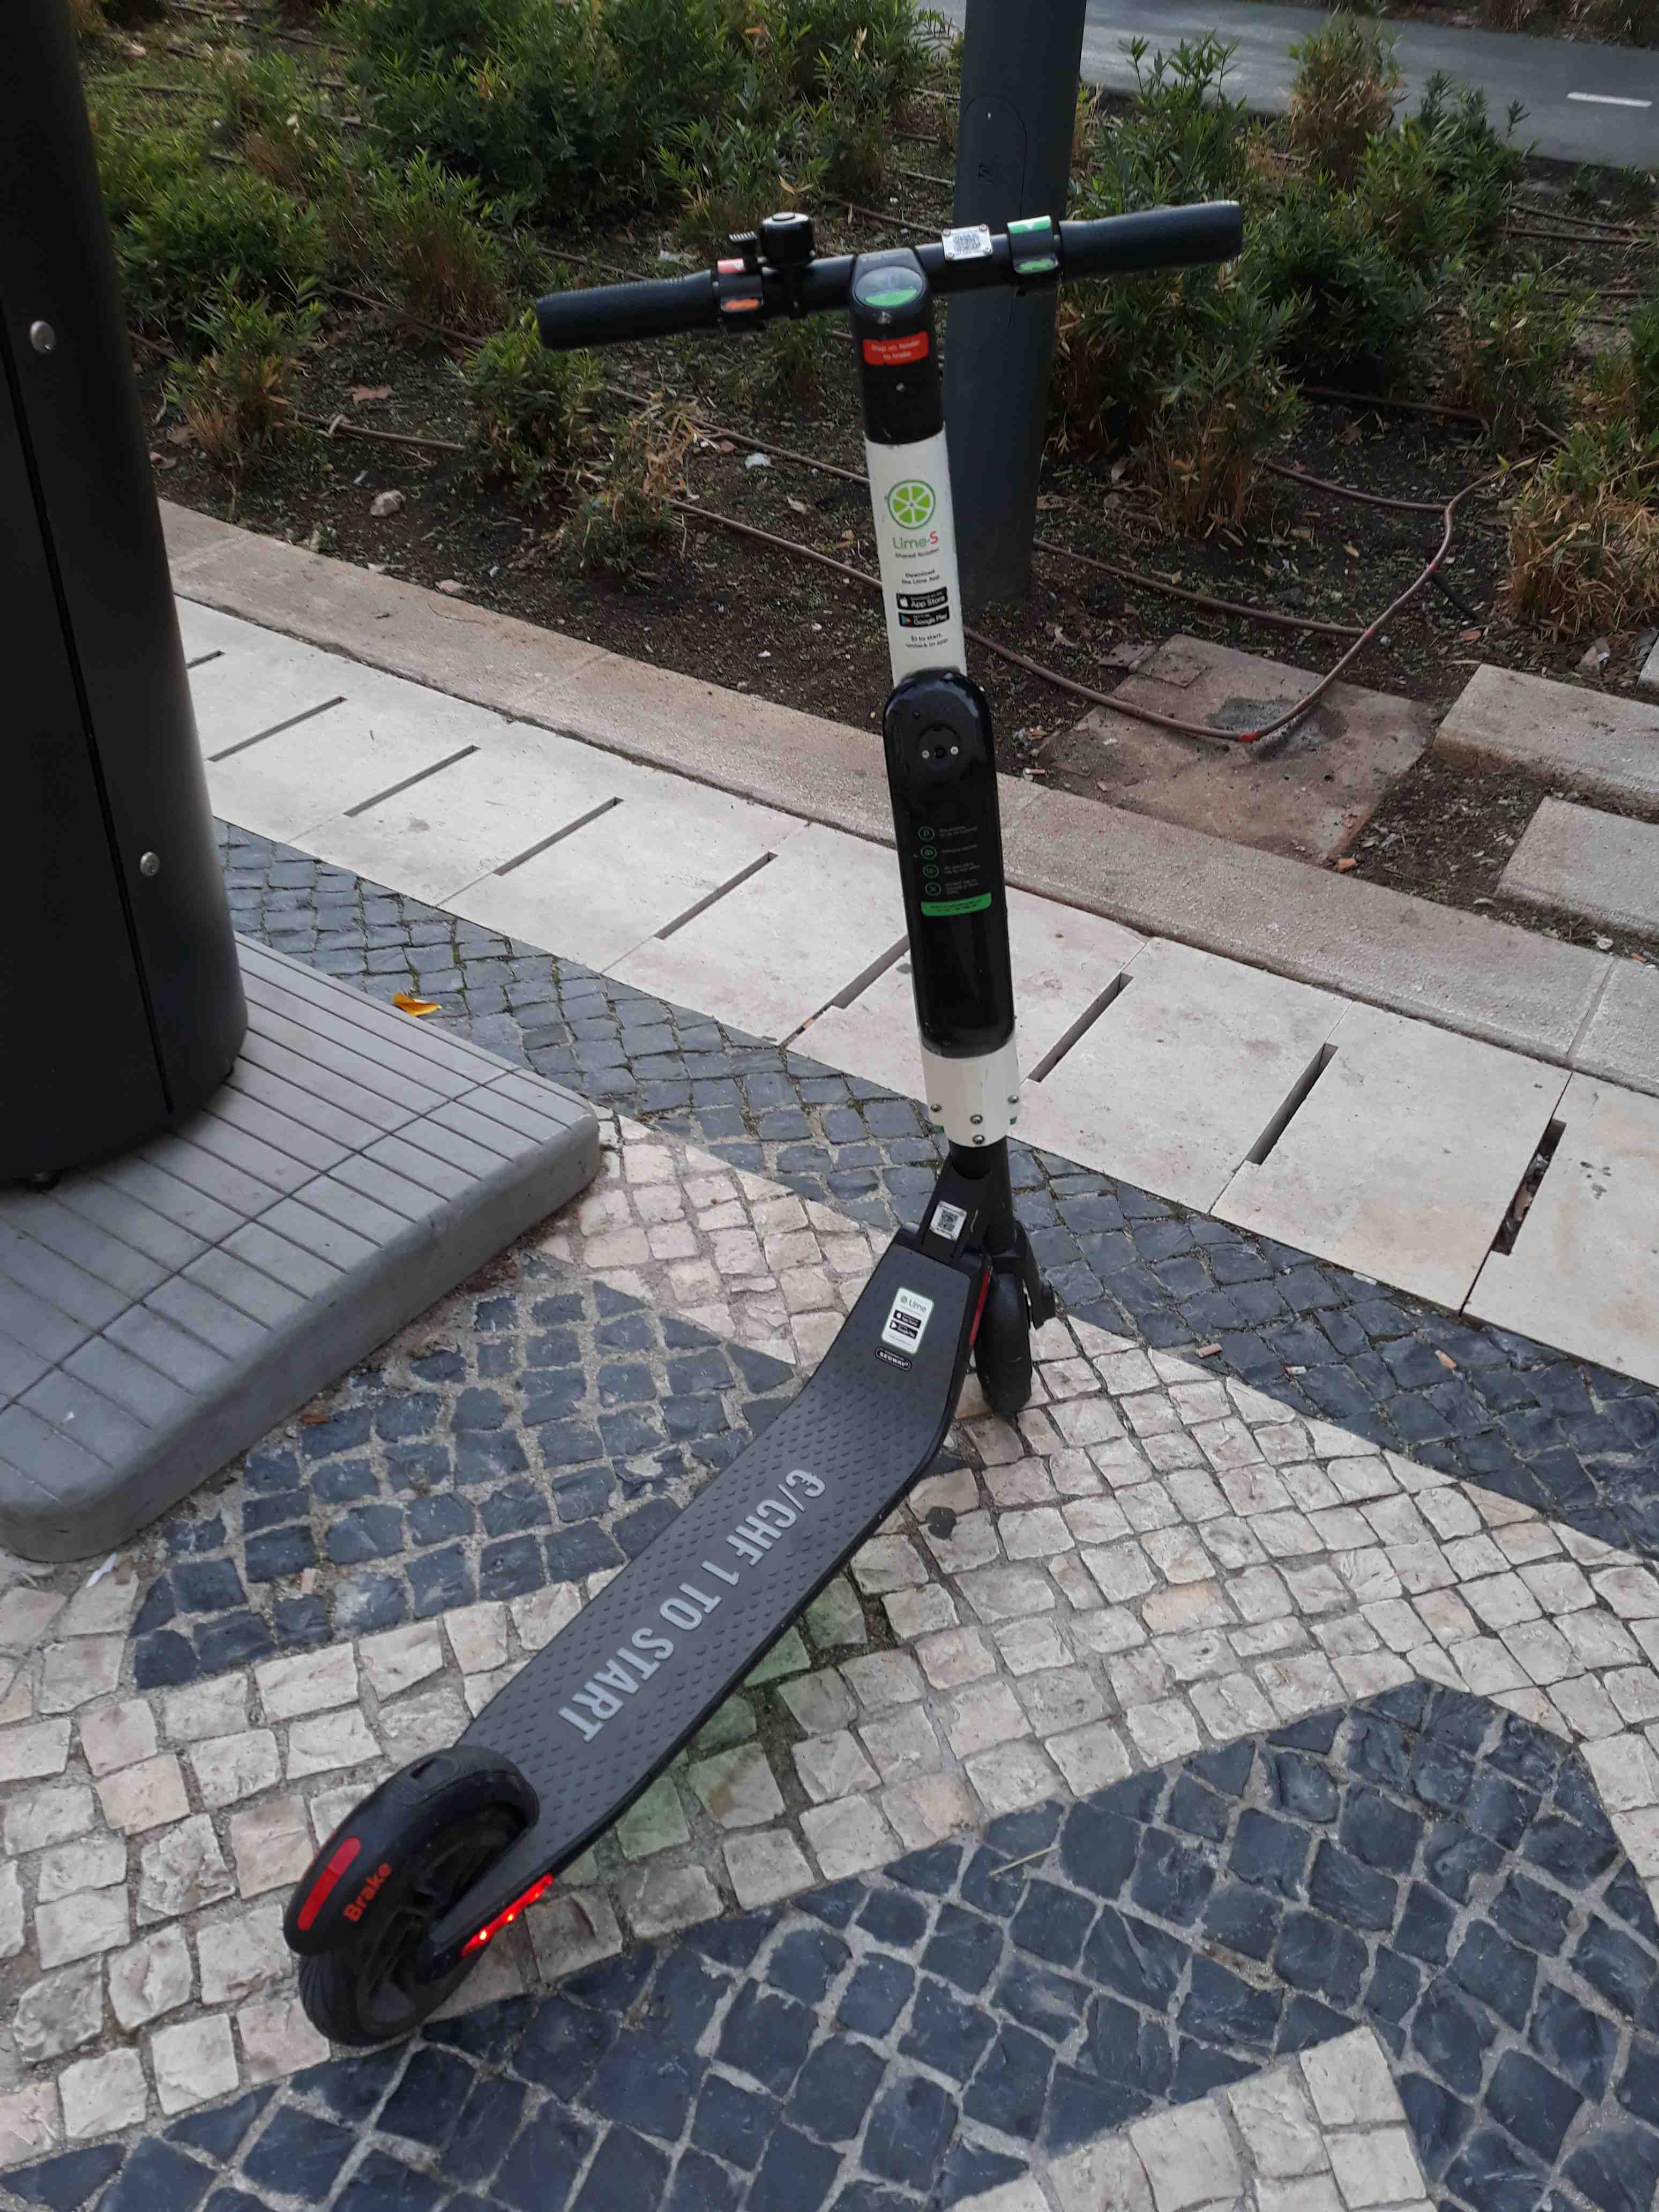scooter: (268, 185, 1260, 2080)
